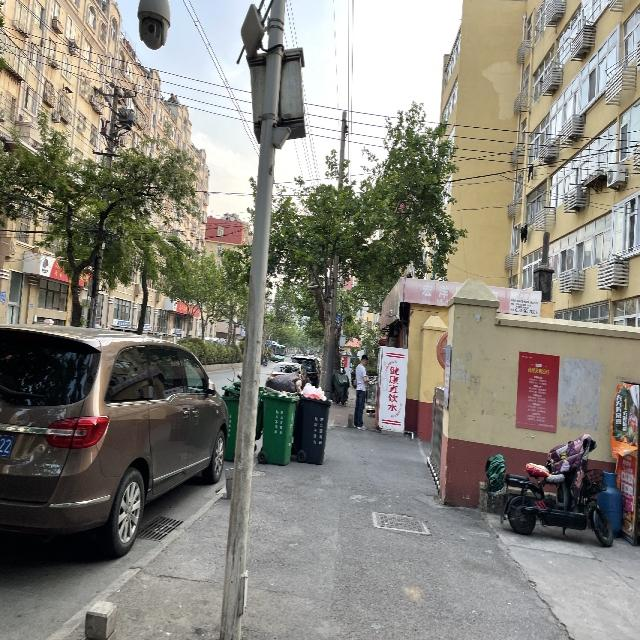overflow: (261, 372, 299, 465), (300, 382, 331, 464), (220, 385, 238, 460)
